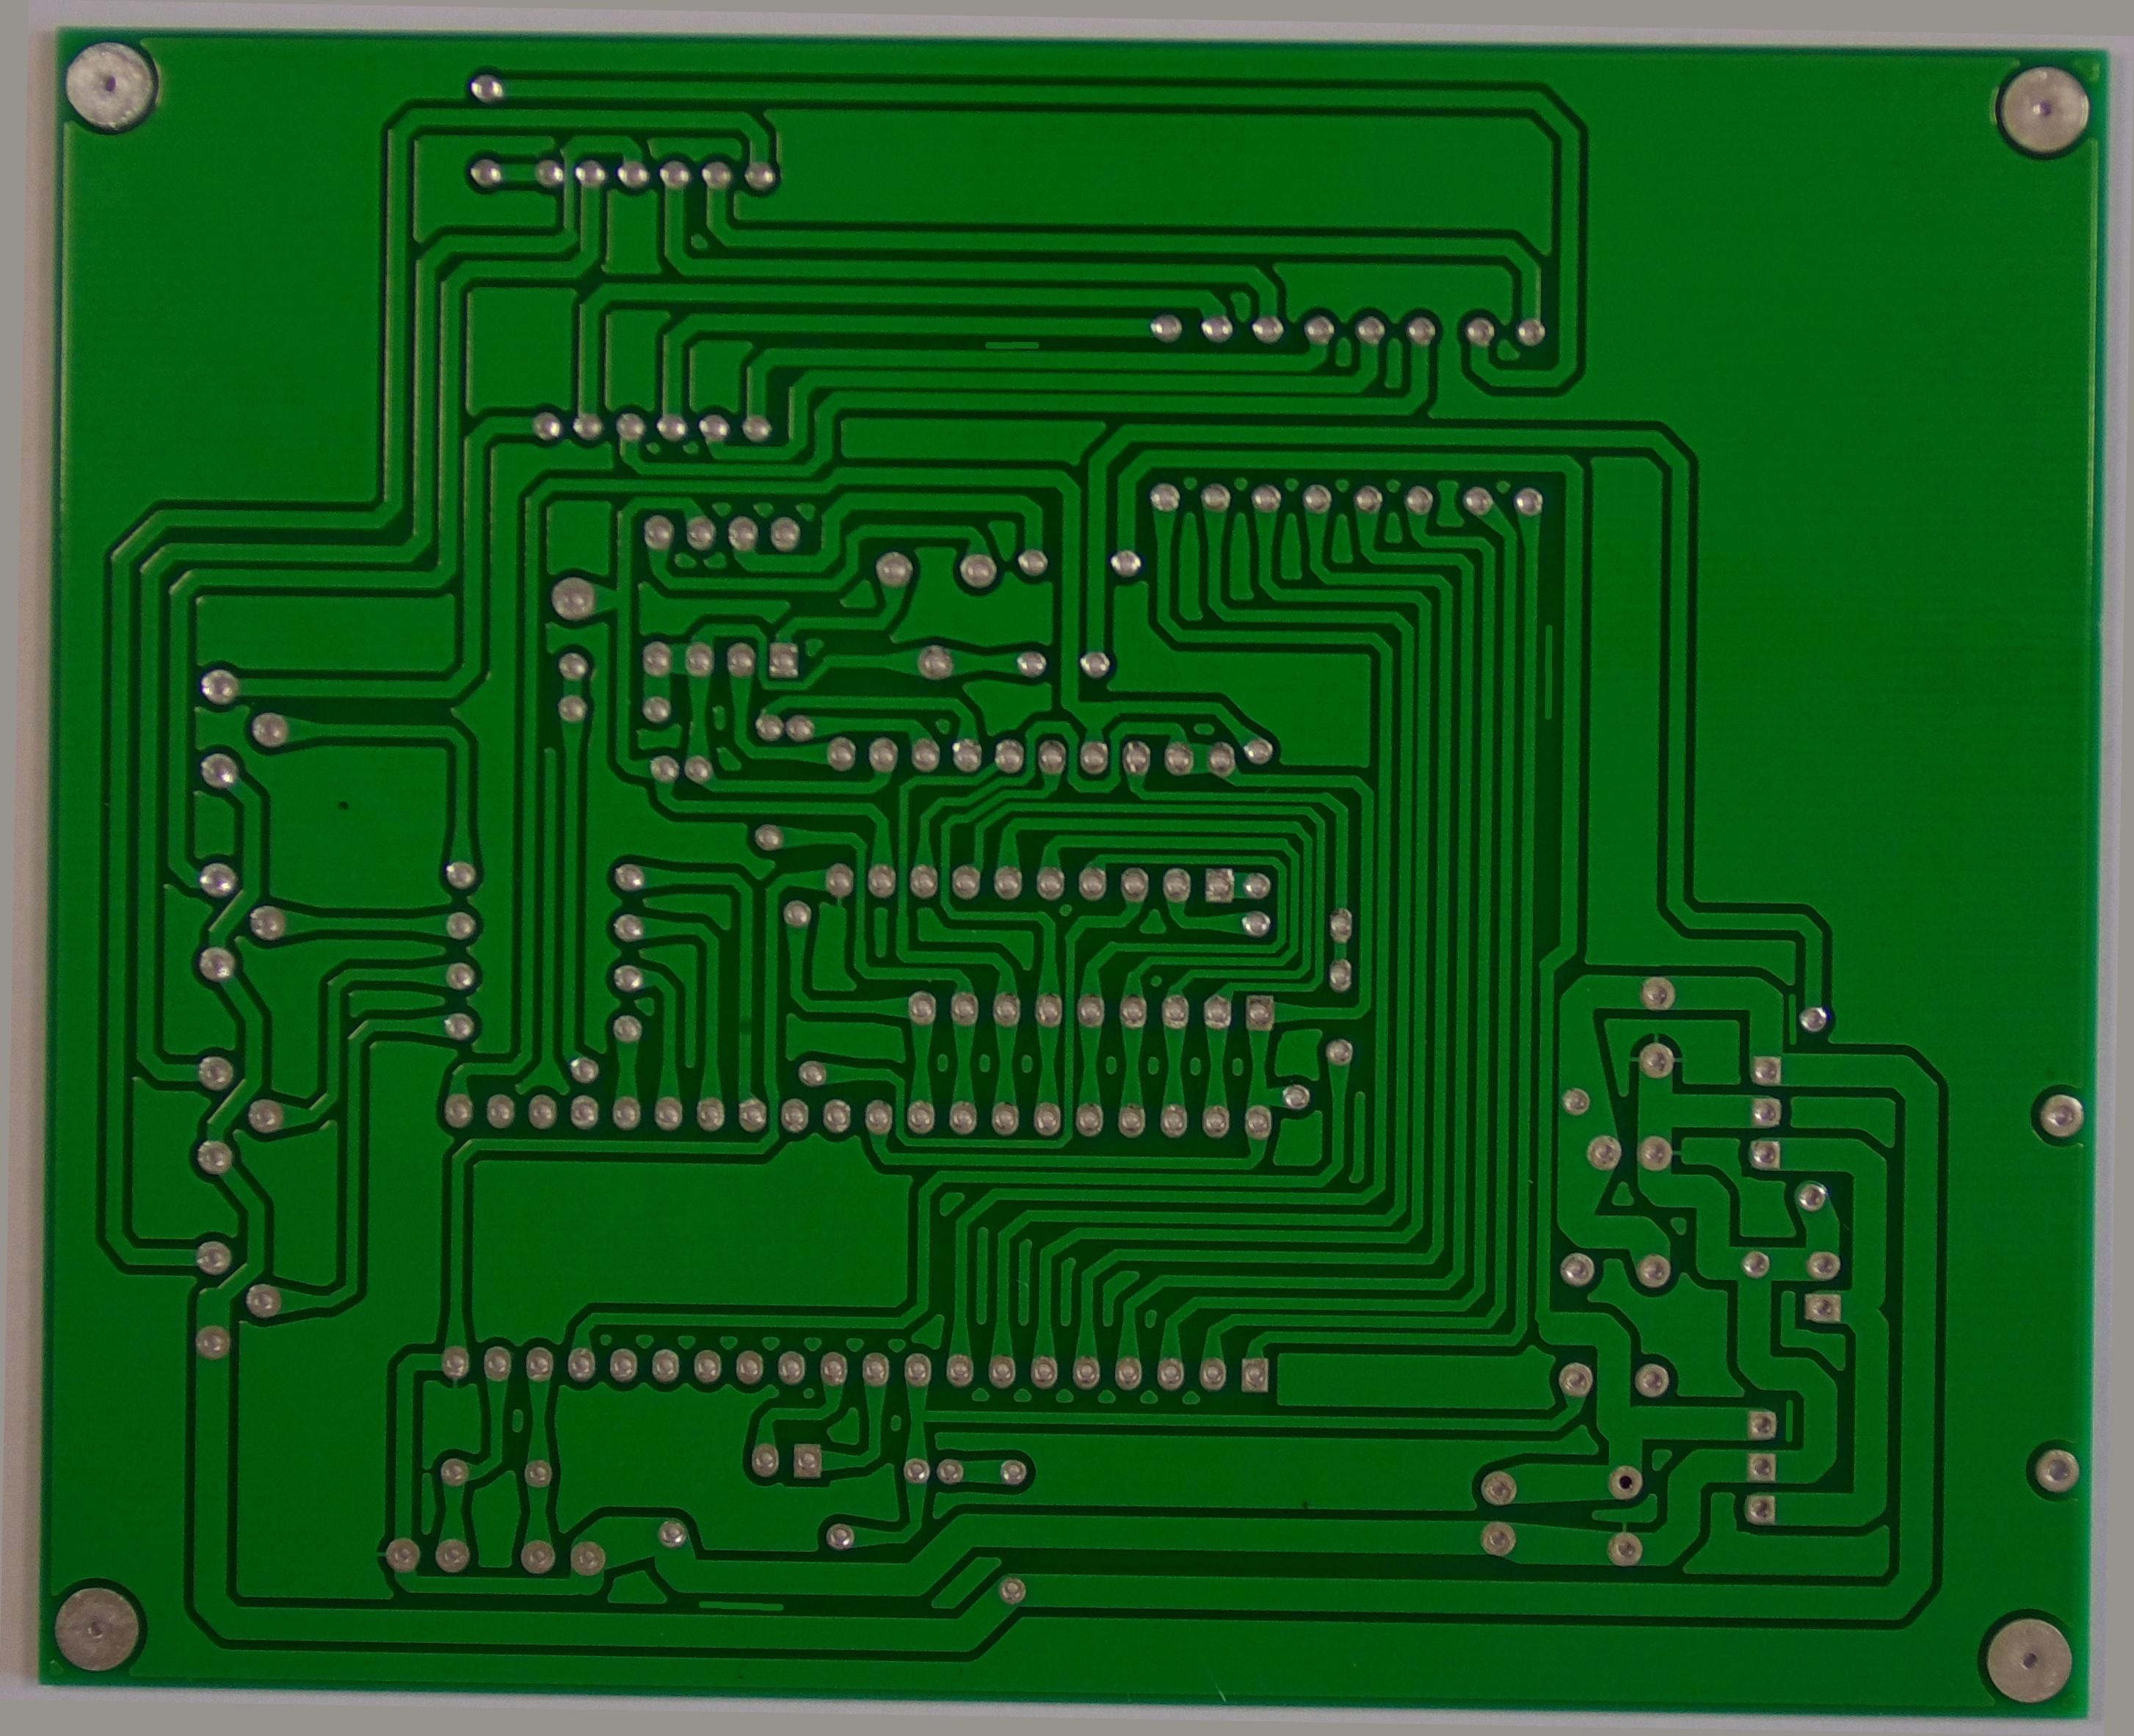spurious_copper: (1537, 602, 1566, 716), (700, 1614, 799, 1642), (965, 321, 1036, 345), (1794, 974, 1819, 1040), (1792, 1391, 1821, 1445)
